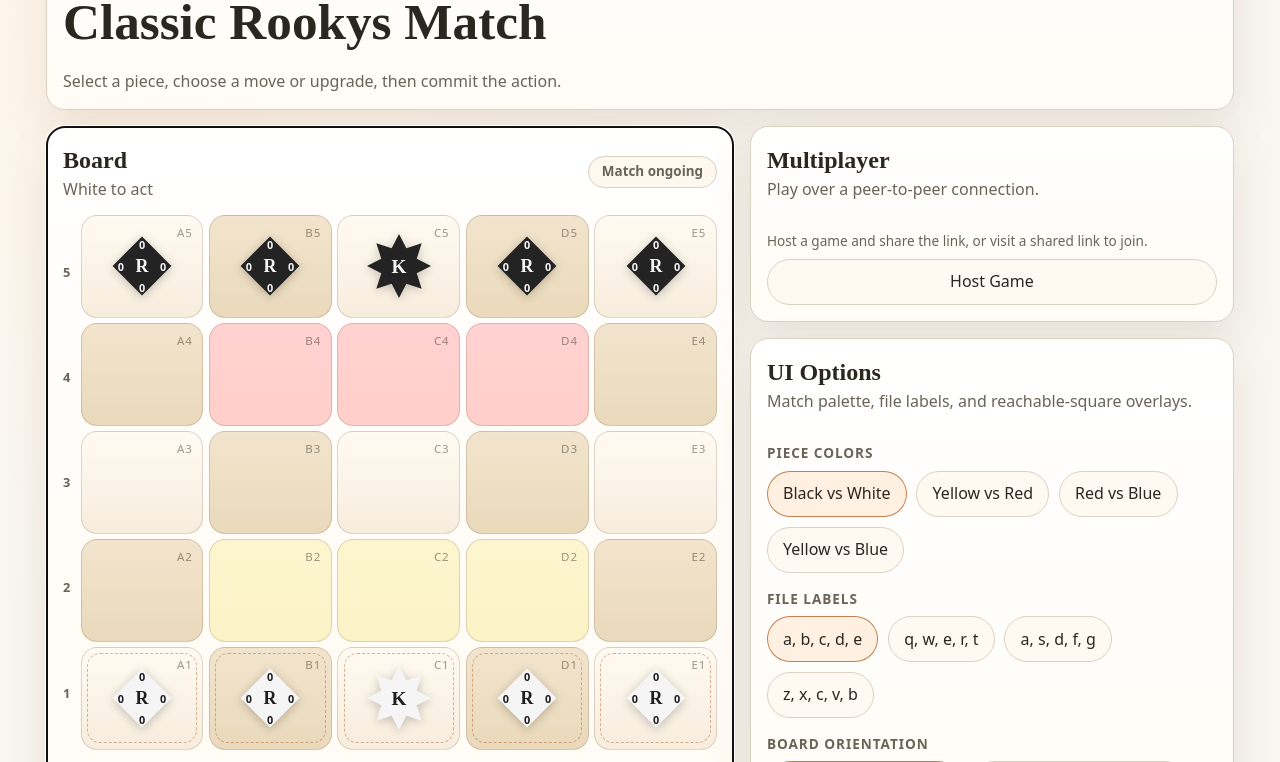
Test: App › allows moving the opening white king through the turn flow
(page scrolled)
Click the cell named "Square c1, white king" at point(399, 698), box 337,647 -> 460,750
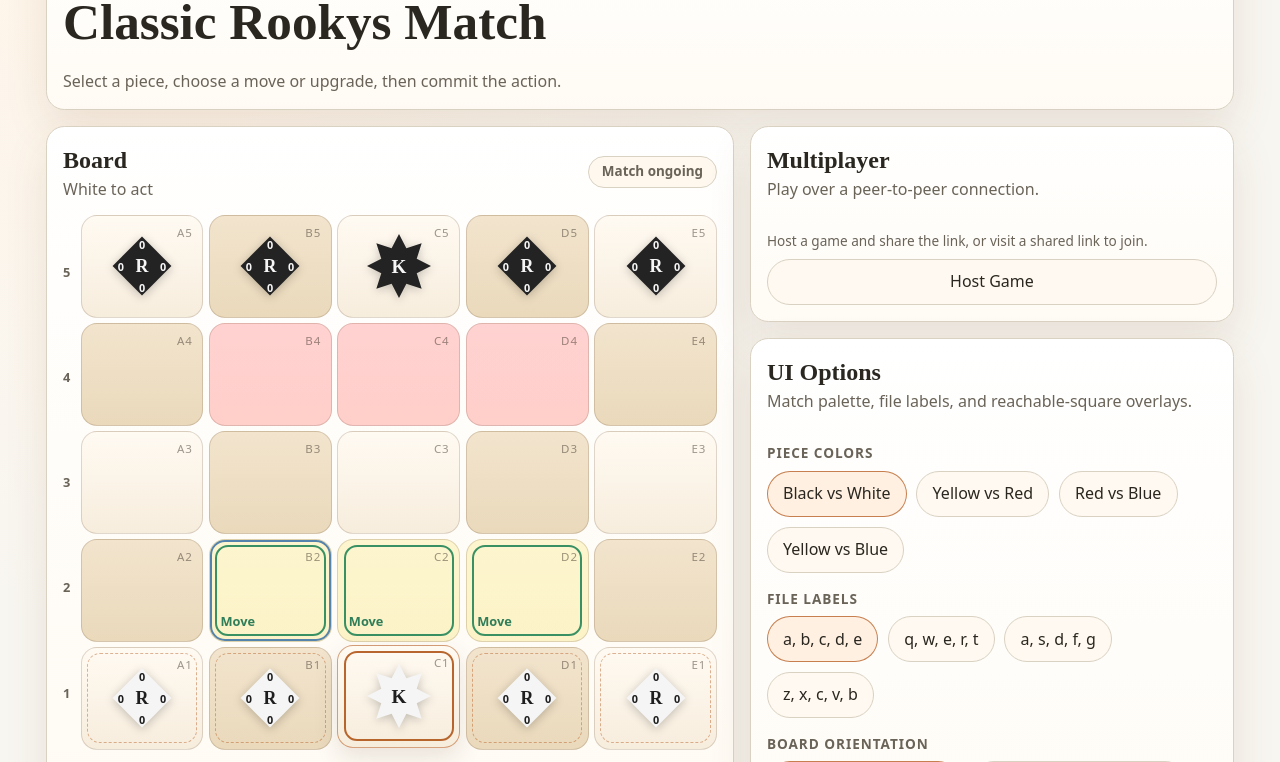
Click the cell named "Square b2, empty" at point(270, 590), box 209,539 -> 332,642
(page scrolled)
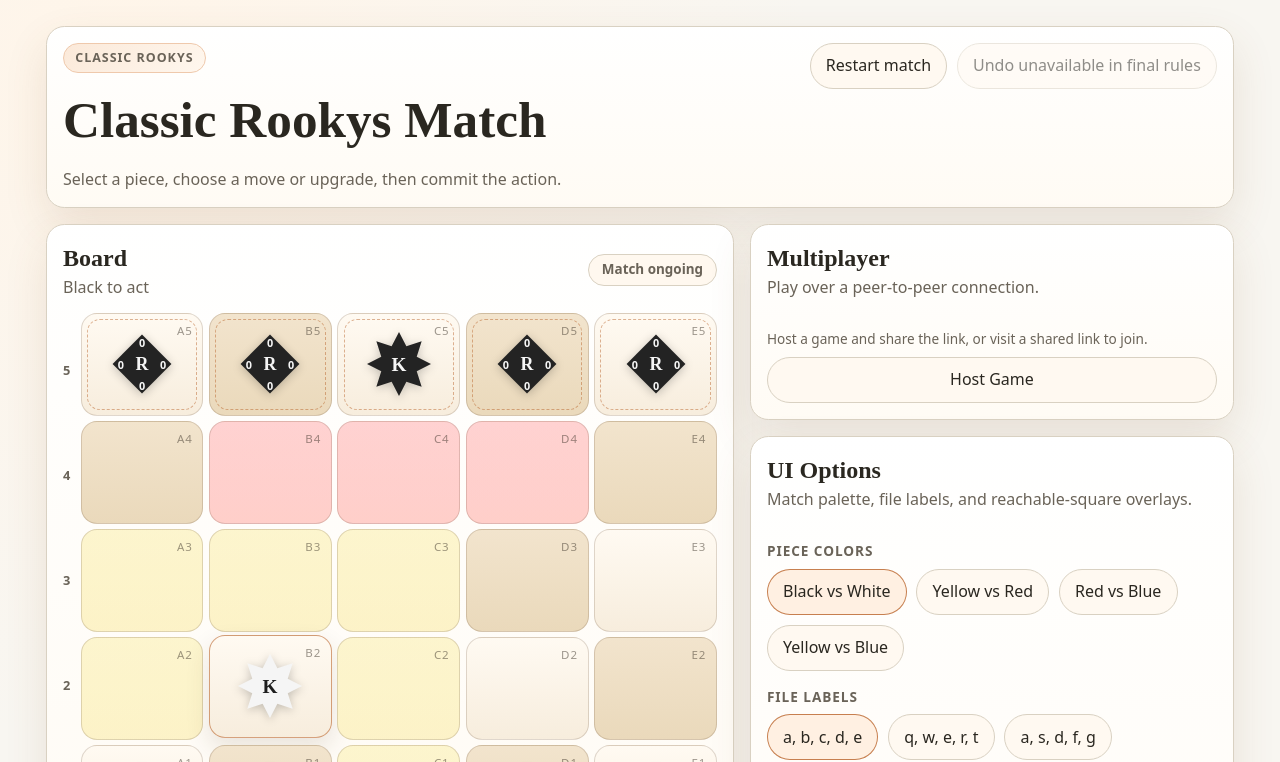
Check: the text "Black to act" is shown, box 63,276 -> 149,299
Check: the cell named "Square b2, white king" is shown, box 209,635 -> 332,738
Click the button "Restart match" at point(878, 66), box 810,43 -> 947,89
(page scrolled)
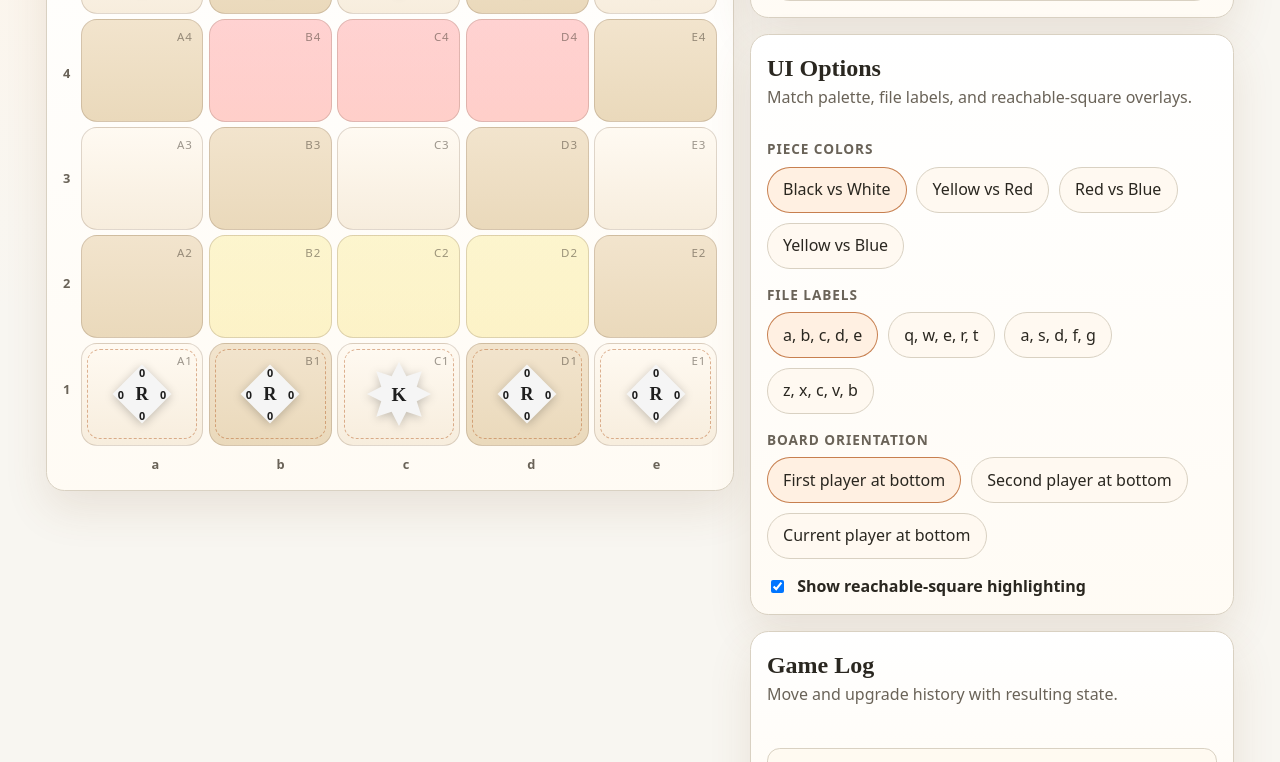
Check: the cell named "Square c1, white king" is shown, box 337,343 -> 460,446
